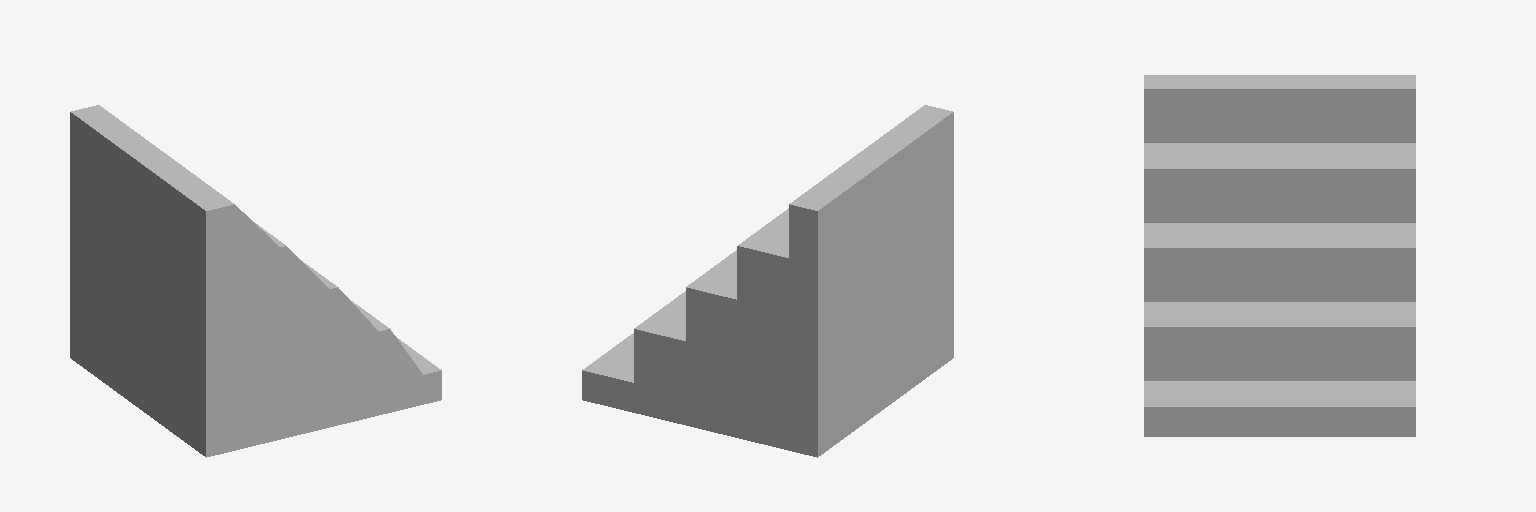
Rendered from Stairs.obj.
The picture shows the model from 3 angles: view 1: azimuth 30°, elevation 25°; view 2: azimuth 150°, elevation 25°; view 3: azimuth 270°, elevation 25°; orthographic projection.
Parts seen in each view (by area): view 1: Cube; view 2: Cube; view 3: Cube.
Boxes of the visible parts, <box> form: Cube: <box>70,105,441,457</box>; Cube: <box>582,105,953,457</box>; Cube: <box>1144,75,1415,436</box>.
Bounding box in the file's own units: 2 × 2 × 2.